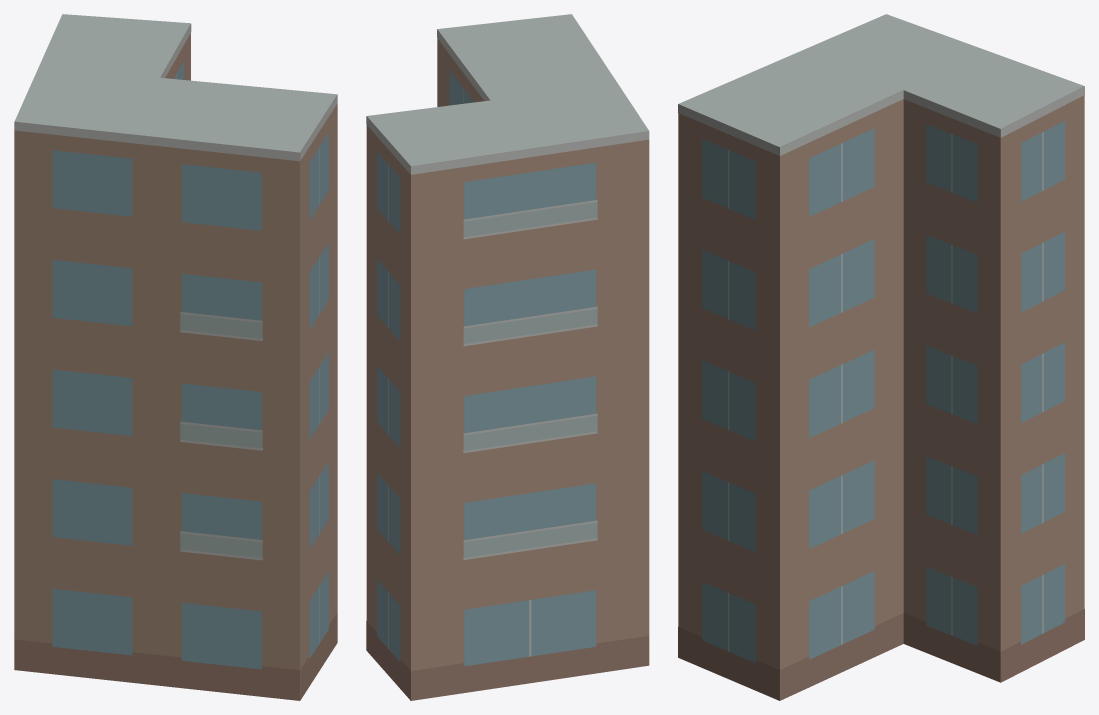
Rendered from survey-upis-32601790.glb.
3 views of the same model, side by side, from view 1: azimuth 30°, elevation 25°; view 2: azimuth 150°, elevation 25°; view 3: azimuth 270°, elevation 25° (orthographic). The views are drawn at different scales.
Visible parts, largest first — view 1: survey-upis-32601790.tmp; view 2: survey-upis-32601790.tmp; view 3: survey-upis-32601790.tmp.
Part boxes in pixels (bbox=[...]): survey-upis-32601790.tmp: bbox=[14, 14, 337, 700]; survey-upis-32601790.tmp: bbox=[366, 14, 649, 700]; survey-upis-32601790.tmp: bbox=[678, 14, 1084, 700].
Bounding box in the file's own units: 7.88 × 15.25 × 10.16.
